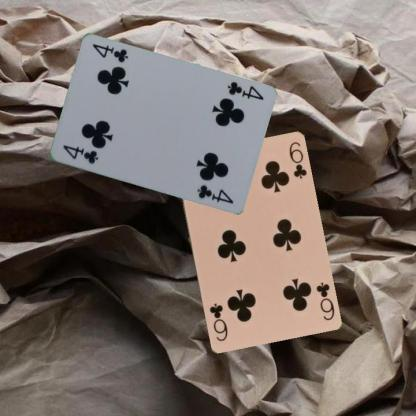4c: (224, 79, 265, 102), (60, 142, 100, 165)
6c: (313, 279, 336, 321)
